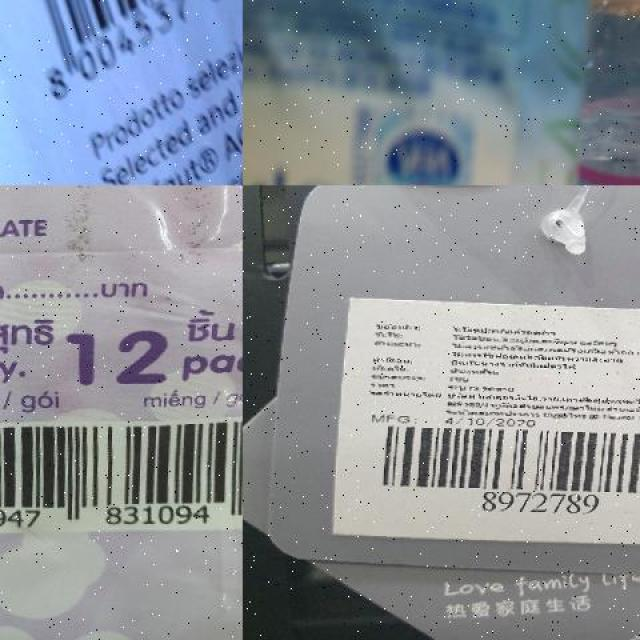Barcode: (0, 419, 243, 533), (373, 416, 640, 515), (0, 0, 242, 105)
